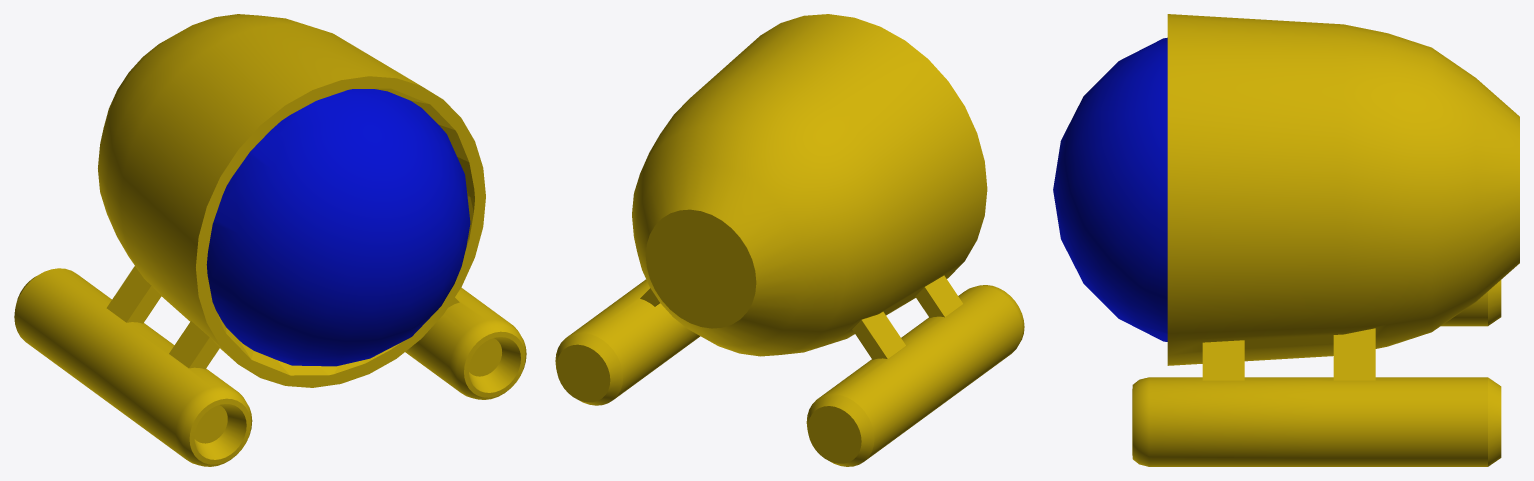
File: submarine_v2.obj
3 views of the same model, side by side, from view 1: azimuth 30°, elevation 25°; view 2: azimuth 150°, elevation 25°; view 3: azimuth 270°, elevation 25° (orthographic). The views are drawn at different scales.
Parts seen in each view (by area): view 1: Main_Cylinder; view 2: Main_Cylinder; view 3: Main_Cylinder.
Boxes of the visible parts, box(x1,y1,x2,y2) form: Main_Cylinder: box(14, 14, 526, 466); Main_Cylinder: box(555, 14, 1024, 466); Main_Cylinder: box(1053, 14, 1519, 466).
Size of the model in its own units: 2.4 by 2.27 by 2.65.
